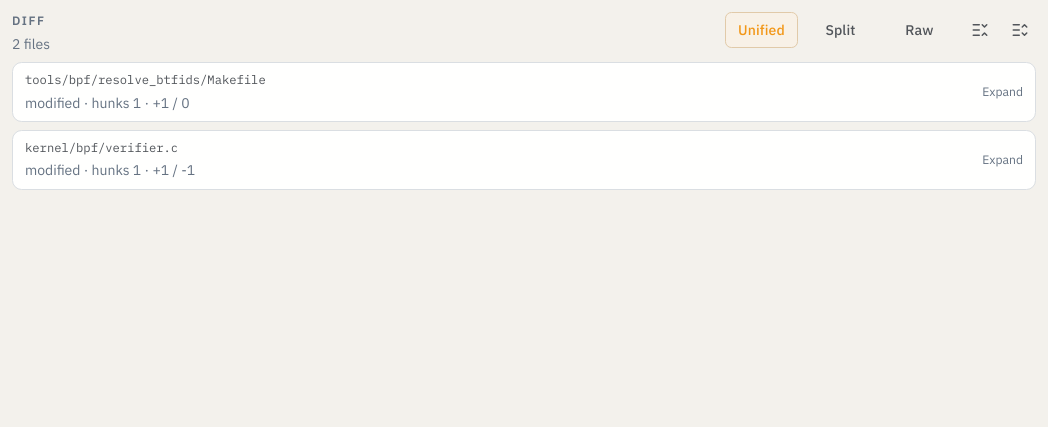
Test: MessageDiffViewer › defaults to unified mode and switches between unified, split, and raw
expect the button "Unified" is shown: met, box 725,12 -> 798,48
expect the button "Split" is shown: met, box 804,12 -> 877,48
Click the button with aria-label "Toggle file diff card: tools/bpf/resolve_btfids/Makefile" at [145, 79], box 25,71 -> 1023,113
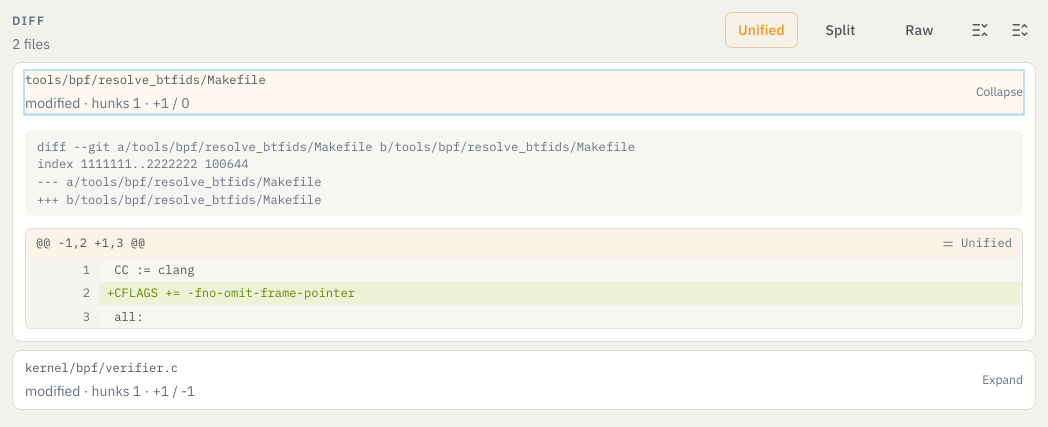
expect the button with aria-label "Toggle file diff card: tools/bpf/resolve_btfids/Makefile" is expanded: met, box 25,71 -> 1023,114
Click the button "Raw" at [920, 30], box 883,12 -> 956,48
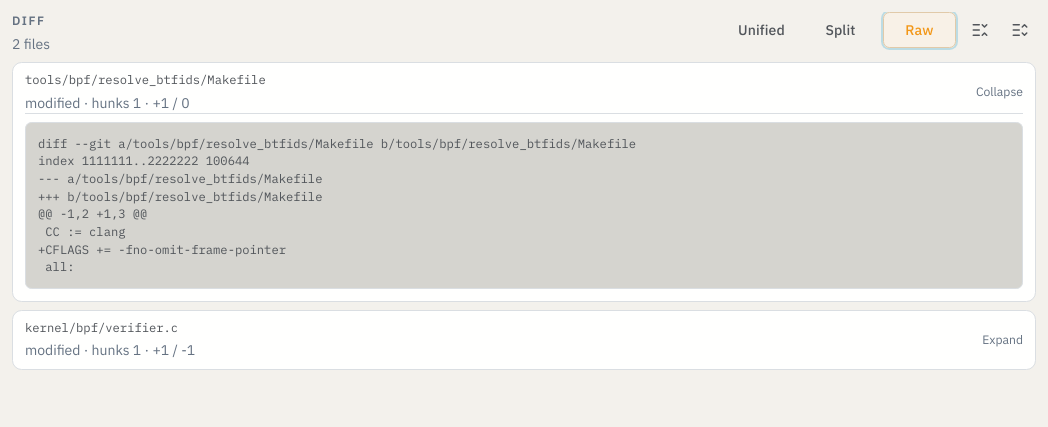
expect the text "diff --git a/tools/bpf/resolve_btfids/Makefile" is shown: met, box 38,136 -> 636,274
Click the button "Split" at [840, 30], box 804,12 -> 877,48
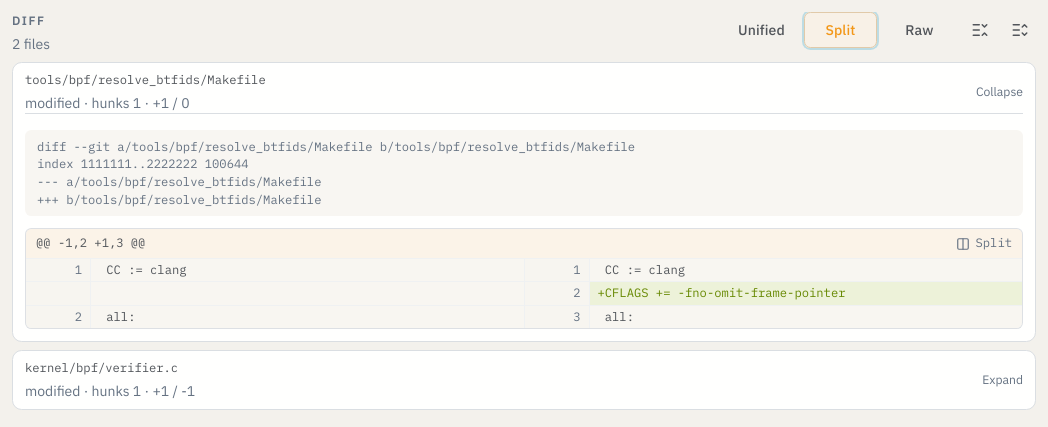
expect the text "split" is shown: met, box 956,235 -> 1012,252
Click the button "Unified" at [762, 30], box 725,12 -> 798,48
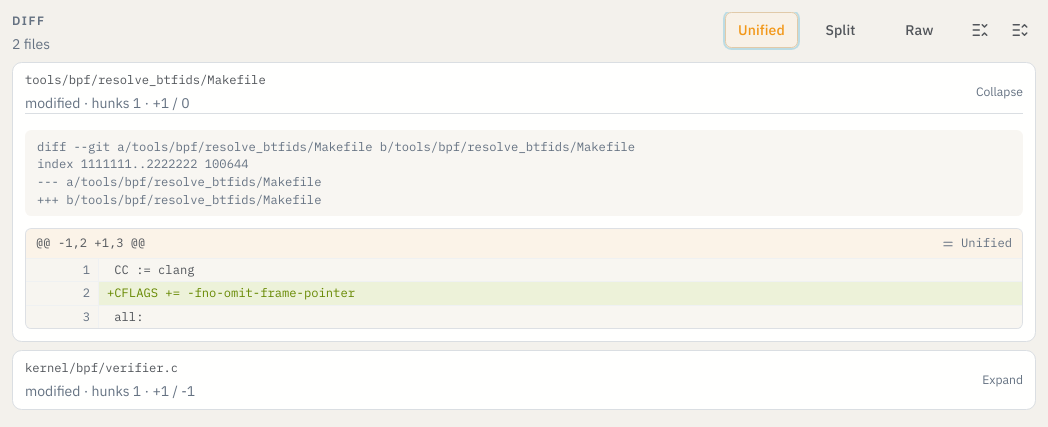
expect the text "unified" is shown: met, box 941,235 -> 1012,252
